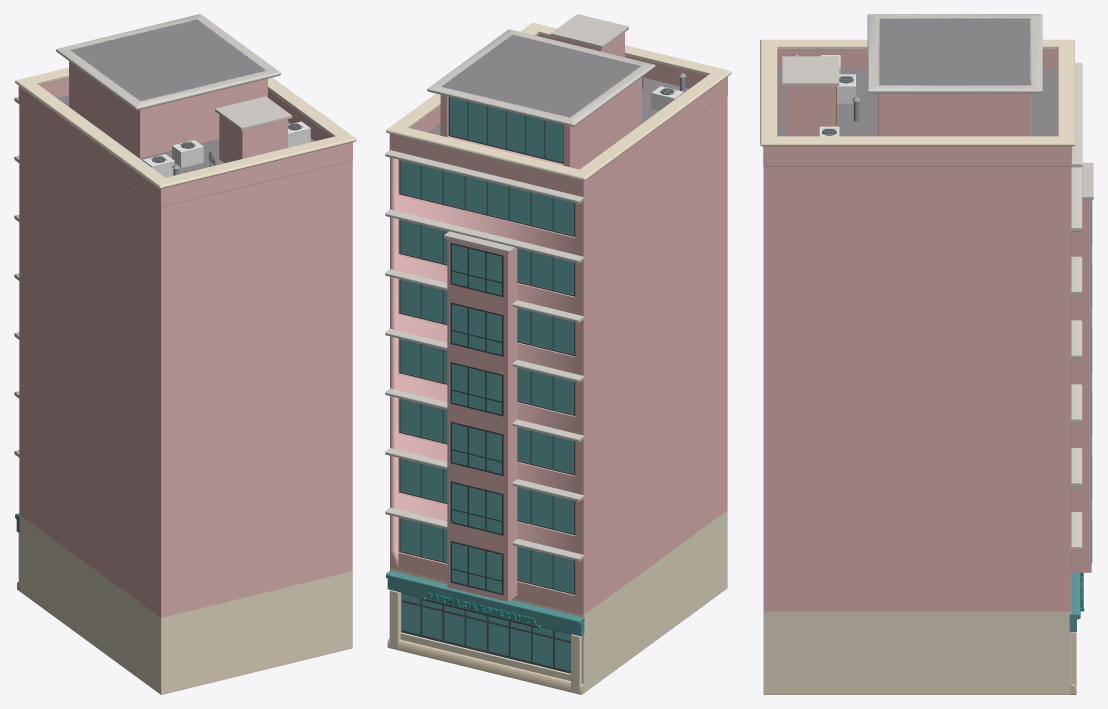
The model's file is far_stucco_17.glb.
3 views of the same model, side by side, from view 1: azimuth 30°, elevation 25°; view 2: azimuth 150°, elevation 25°; view 3: azimuth 270°, elevation 25° (orthographic). The views are drawn at different scales.
Visible parts, largest first — view 1: shell, trim, penthouse, props; view 2: shell, trim, props, penthouse, frames, sign_farmacia_esperanza_text, penthouse frames; view 3: shell, trim, penthouse, props.
Boxes of the visible parts, x1,y1,x2,y2 form: shell: (19,95,352,694); trim: (14,14,356,590); penthouse: (69,19,267,158); props: (143,96,310,177); shell: (390,78,727,692); trim: (385,23,731,694); props: (444,14,686,601); penthouse: (440,34,641,169); frames: (399,160,575,673); sign_farmacia_esperanza_text: (427,592,536,625); penthouse frames: (448,97,563,163); shell: (763,68,1071,694); trim: (760,14,1082,694); penthouse: (878,18,1031,136); props: (782,54,1093,572).
Bounding box in the file's own units: 11.21 × 29.72 × 15.15.
